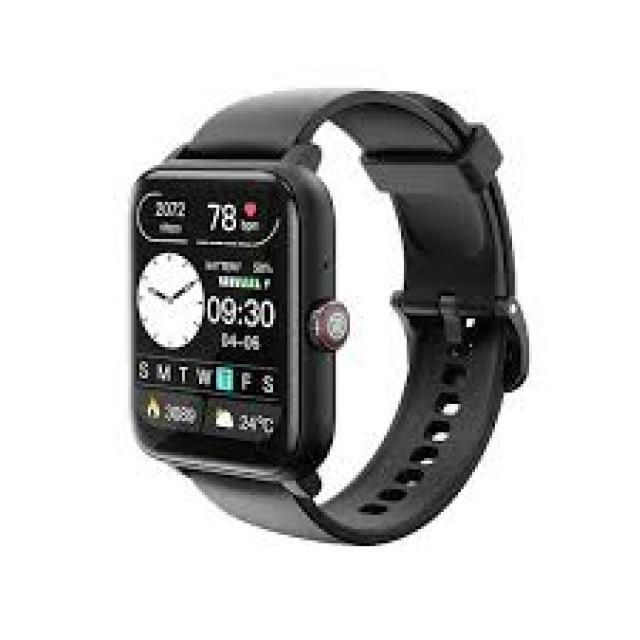objects: (131, 91, 526, 546)
